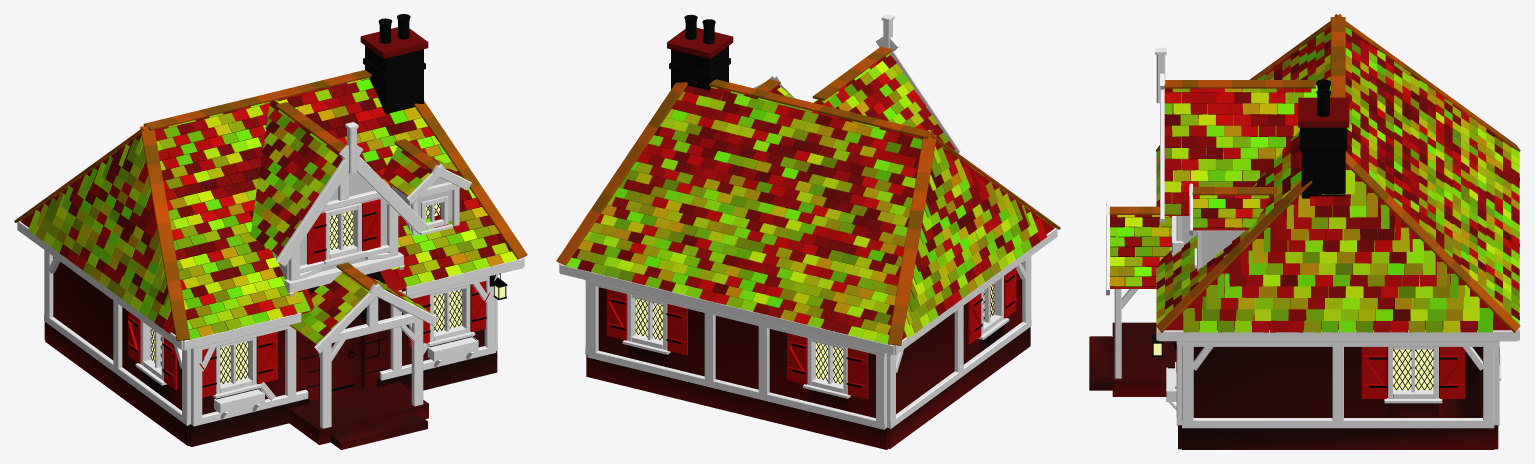
Rendered from SilverbrookCottage1.fbx.
3 renders of one model, left to right at view 1: azimuth 30°, elevation 25°; view 2: azimuth 150°, elevation 25°; view 3: azimuth 270°, elevation 25°, orthographic. The views are drawn at different scales.
Parts seen in each view (by area): view 1: SM_SBCottage1_Roof, SM_SBCottage1_Timber, SM_SBCottage1_Masonry, SM_SBCottage1_Details, SM_SBCottage1_Plaster; view 2: SM_SBCottage1_Roof, SM_SBCottage1_Masonry, SM_SBCottage1_Timber, SM_SBCottage1_Details; view 3: SM_SBCottage1_Roof, SM_SBCottage1_Masonry, SM_SBCottage1_Timber, SM_SBCottage1_Details, SM_SBCottage1_Plaster.
Part boxes in pixels (<box>): SM_SBCottage1_Roof: <box>14,70,527,344</box>; SM_SBCottage1_Timber: <box>17,122,524,428</box>; SM_SBCottage1_Masonry: <box>44,27,497,449</box>; SM_SBCottage1_Details: <box>127,14,507,399</box>; SM_SBCottage1_Plaster: <box>274,172,452,279</box>; SM_SBCottage1_Roof: <box>556,46,1060,345</box>; SM_SBCottage1_Masonry: <box>586,28,1030,449</box>; SM_SBCottage1_Timber: <box>559,14,1057,429</box>; SM_SBCottage1_Details: <box>606,14,1016,399</box>; SM_SBCottage1_Roof: <box>1109,14,1520,332</box>; SM_SBCottage1_Masonry: <box>1089,97,1498,449</box>; SM_SBCottage1_Timber: <box>1106,47,1519,428</box>; SM_SBCottage1_Details: <box>1152,79,1499,398</box>; SM_SBCottage1_Plaster: <box>1182,216,1245,267</box>.
Bounding box in the file's own units: 765 × 653 × 745.
